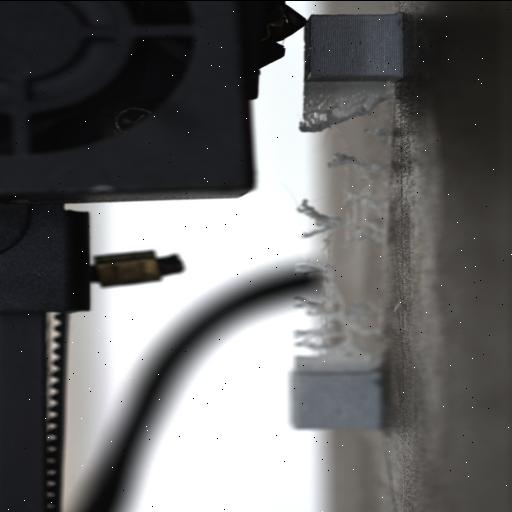stringing: (290, 260, 383, 358), (302, 82, 394, 134), (294, 196, 342, 240), (328, 150, 392, 174)
